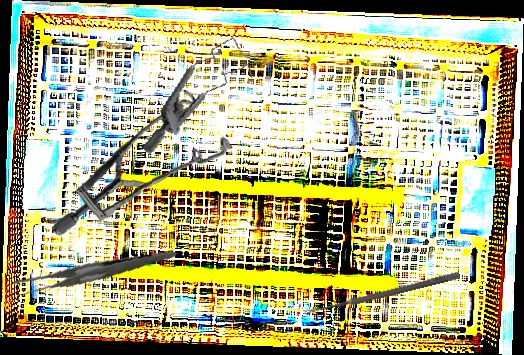Dressing Forceps: (11, 235, 177, 312)
Speculum: (45, 87, 238, 237), (142, 22, 260, 172)
Surgical Spoon: (302, 270, 461, 318)
